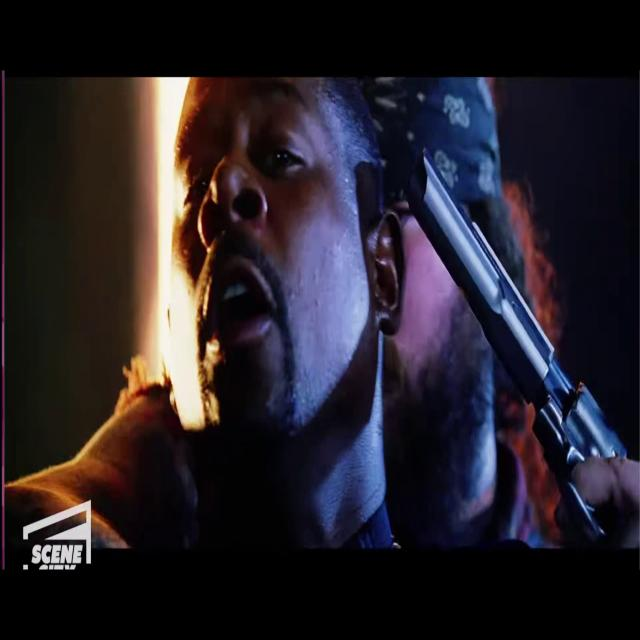weapons: (394, 134, 630, 526)
